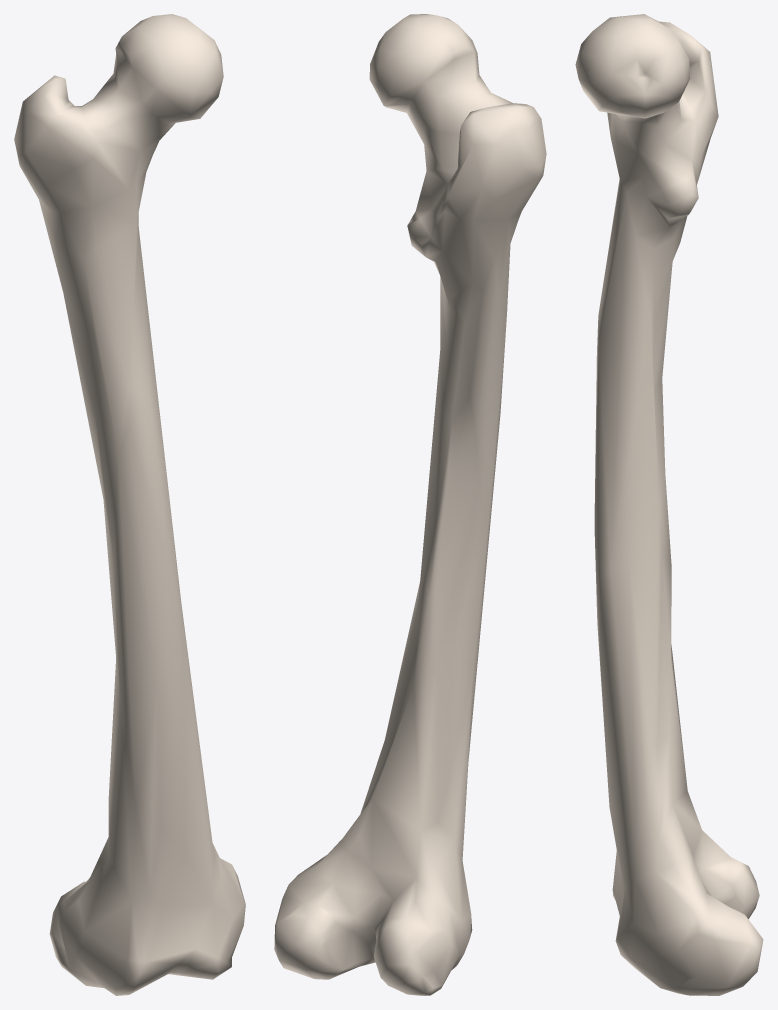
File: right_femur.glb
3 views of the same model, side by side, from view 1: azimuth 30°, elevation 25°; view 2: azimuth 150°, elevation 25°; view 3: azimuth 270°, elevation 25° (orthographic). The views are drawn at different scales.
Parts seen in each view (by area): view 1: Femur.r; view 2: Femur.r; view 3: Femur.r.
Boxes of the visible parts, x1,y1,x2,y2 form: Femur.r: (14,14,245,995); Femur.r: (274,14,546,995); Femur.r: (575,14,763,995).
Size of the model in its own units: 0.0686 by 0.2684 by 0.0487.
